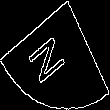N_NE: (31, 25, 79, 85)
